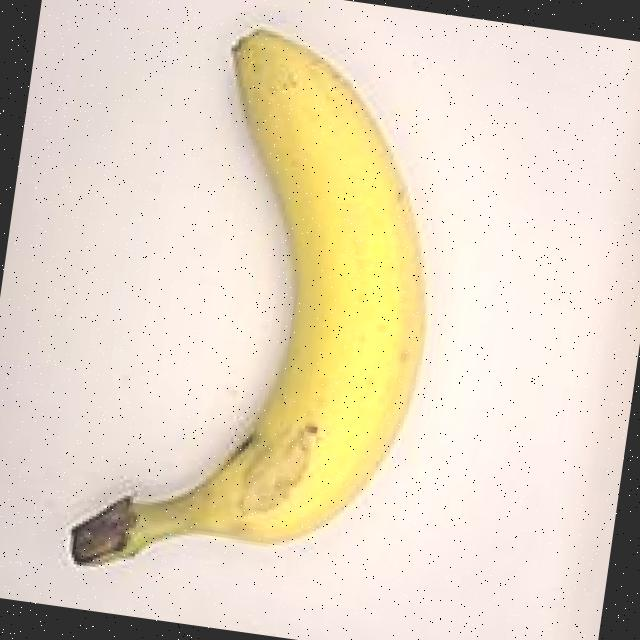Ripe: (27, 0, 484, 622)
